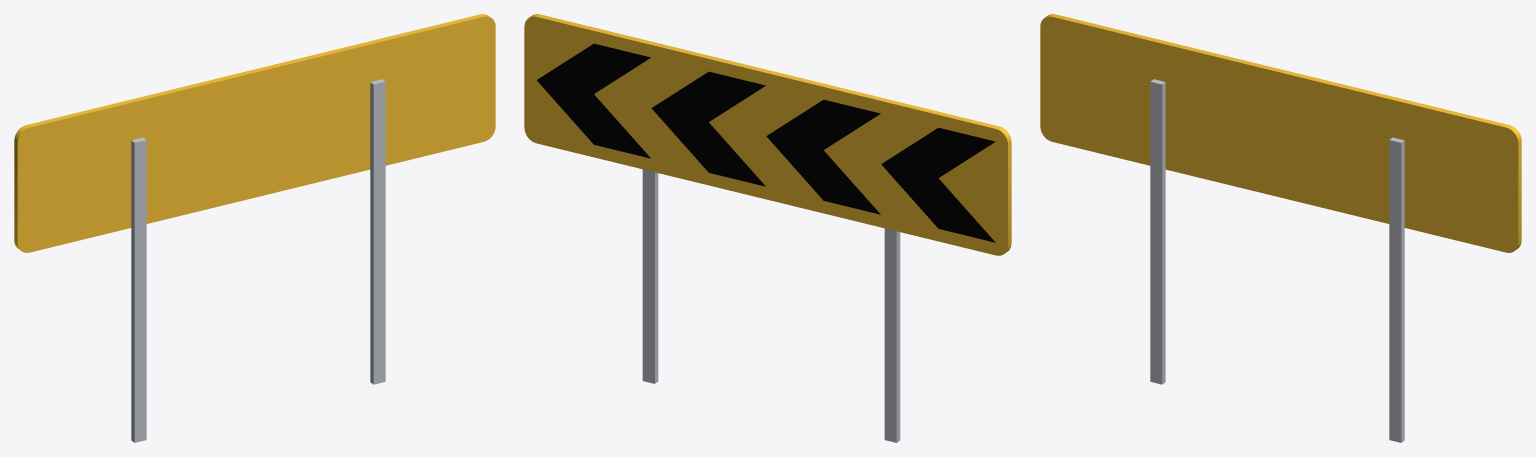
Rendered from signPointLeft.fbx.
3 renders of one model, left to right at view 1: azimuth 30°, elevation 25°; view 2: azimuth 150°, elevation 25°; view 3: azimuth 330°, elevation 25°, orthographic.
Parts seen in each view (by area): view 1: SignPointLeft; view 2: SignPointLeft; view 3: SignPointLeft.
Part boxes in pixels (x1,y1,x2,y2): SignPointLeft: (14, 14, 495, 442); SignPointLeft: (524, 14, 1011, 442); SignPointLeft: (1040, 14, 1521, 442).
Size of the model in its own units: 600 by 405 by 15.
